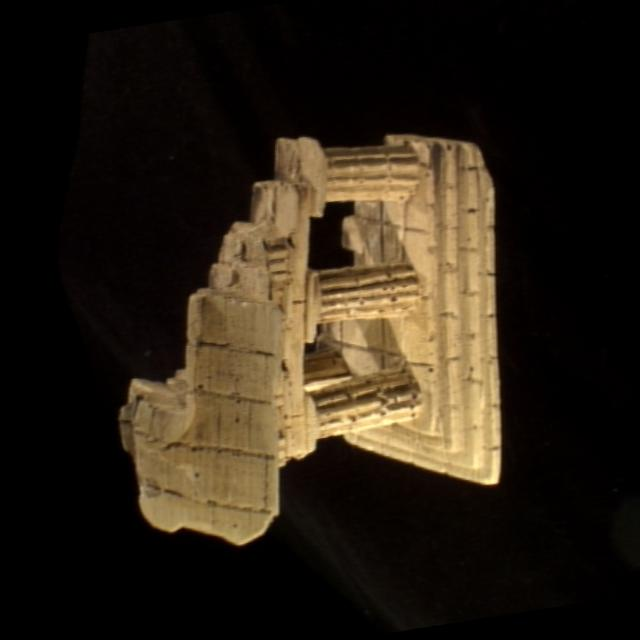Instance-Segmentation: (119, 135, 499, 544)
